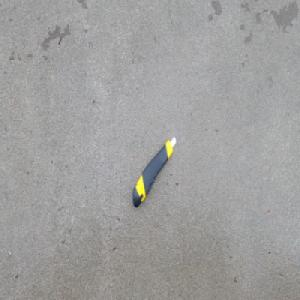Cutter: (132, 135, 177, 208)
